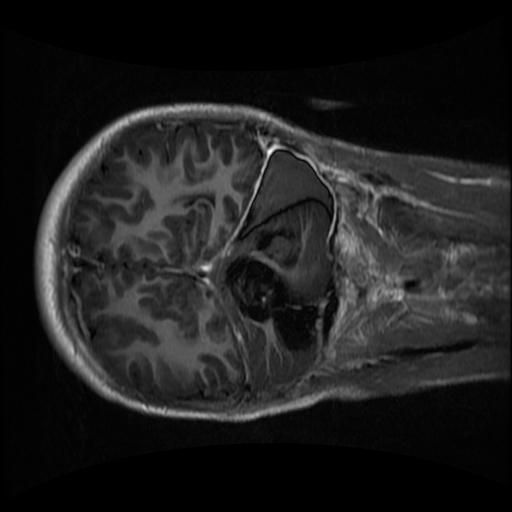glioma: (223, 257, 320, 350)
